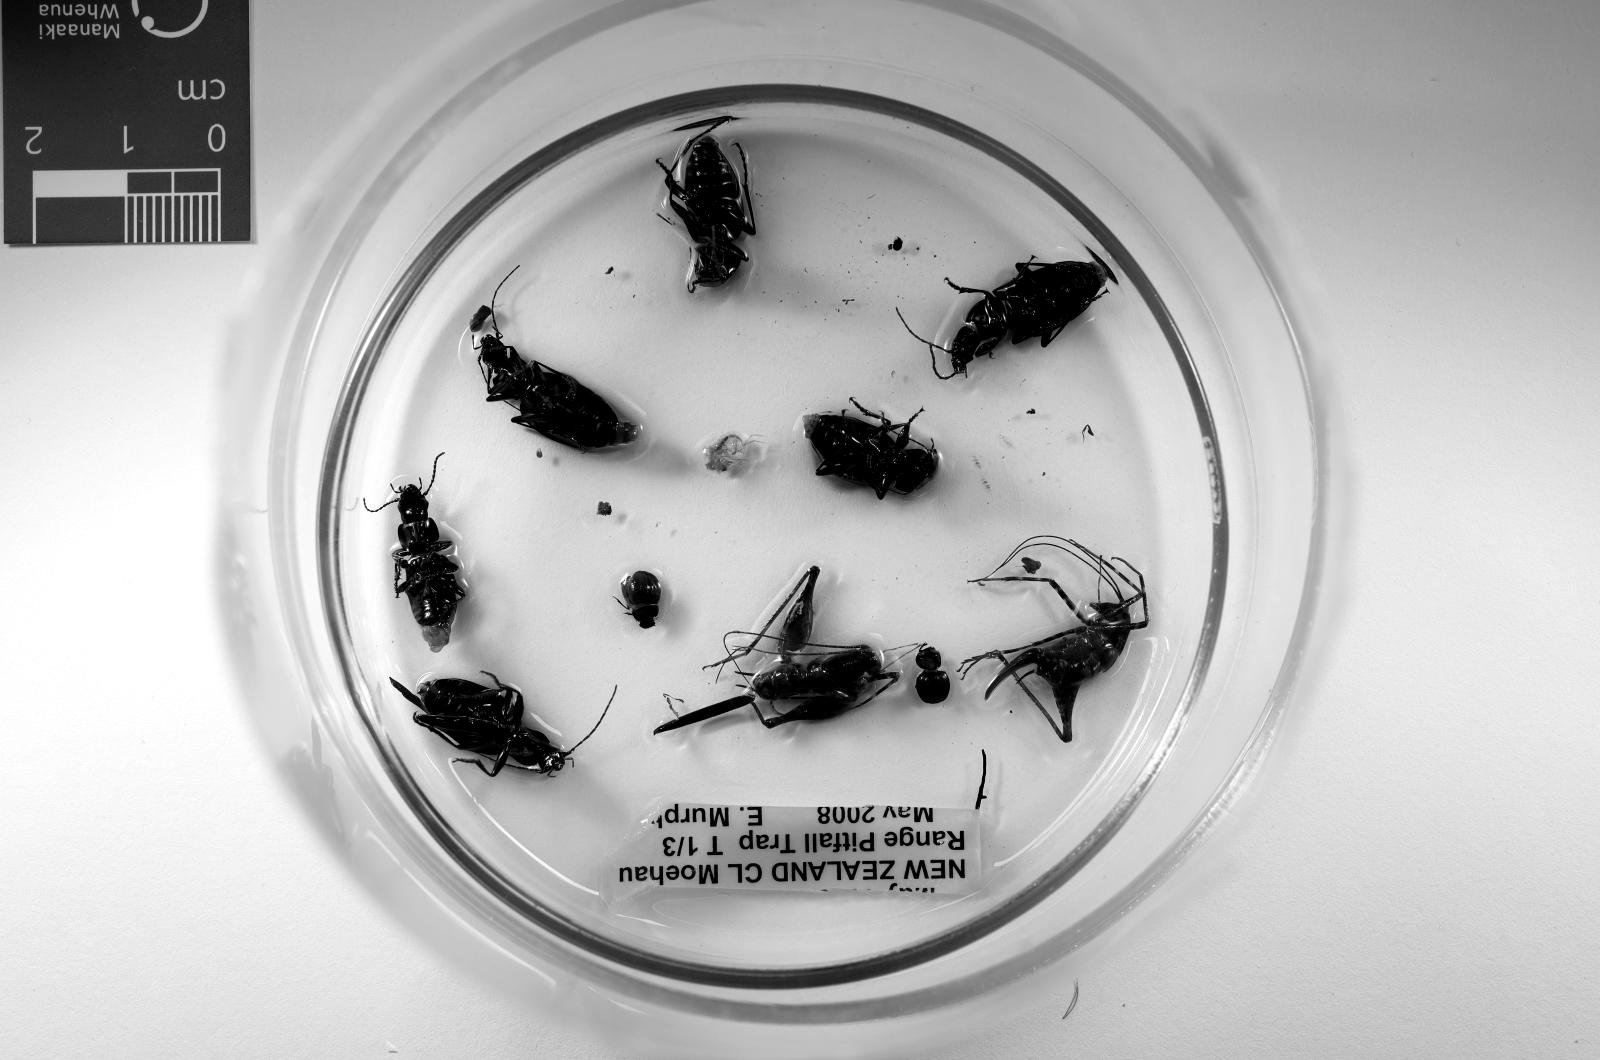amphipoda: (706, 435, 747, 472)
carabidae: (478, 332, 638, 450), (947, 258, 1109, 373), (391, 677, 575, 776), (381, 460, 466, 652), (656, 130, 756, 292), (803, 410, 938, 500)
coleoptera: (622, 571, 662, 627), (916, 646, 950, 705)
orthoptera: (959, 537, 1150, 742), (706, 565, 900, 730)
